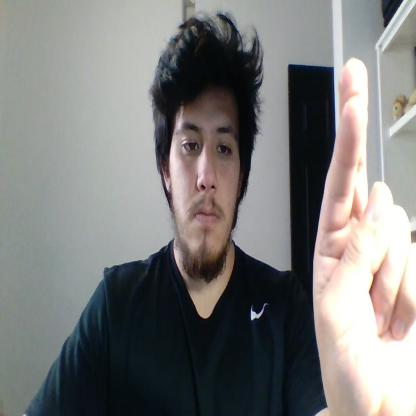R: (312, 58, 415, 415)
